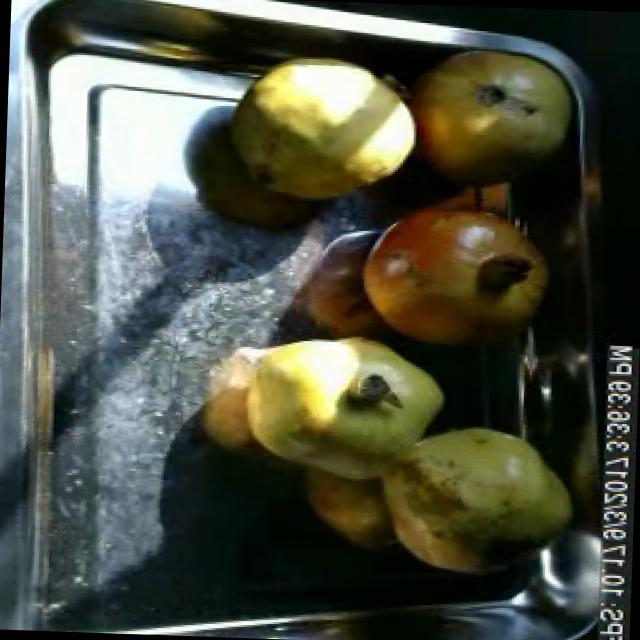fruit: (215, 304, 460, 506), (360, 412, 594, 594), (344, 179, 560, 360), (214, 46, 426, 215), (408, 33, 586, 201)
